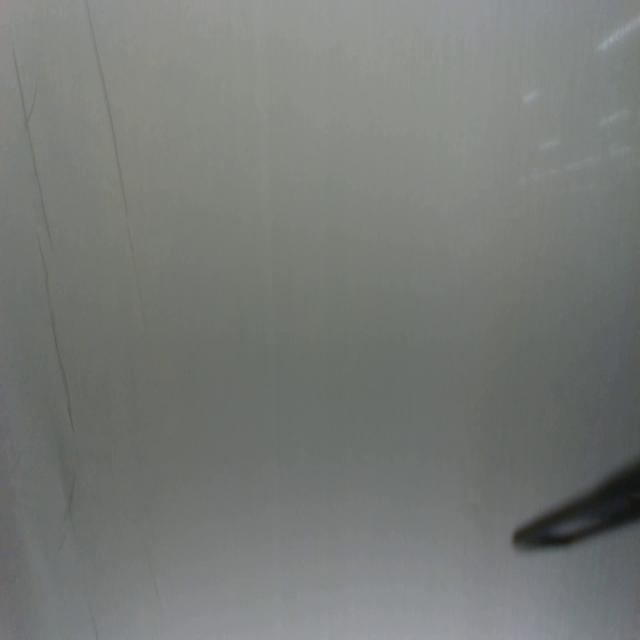crease: (86, 0, 147, 325), (9, 34, 54, 253), (37, 237, 74, 438)
